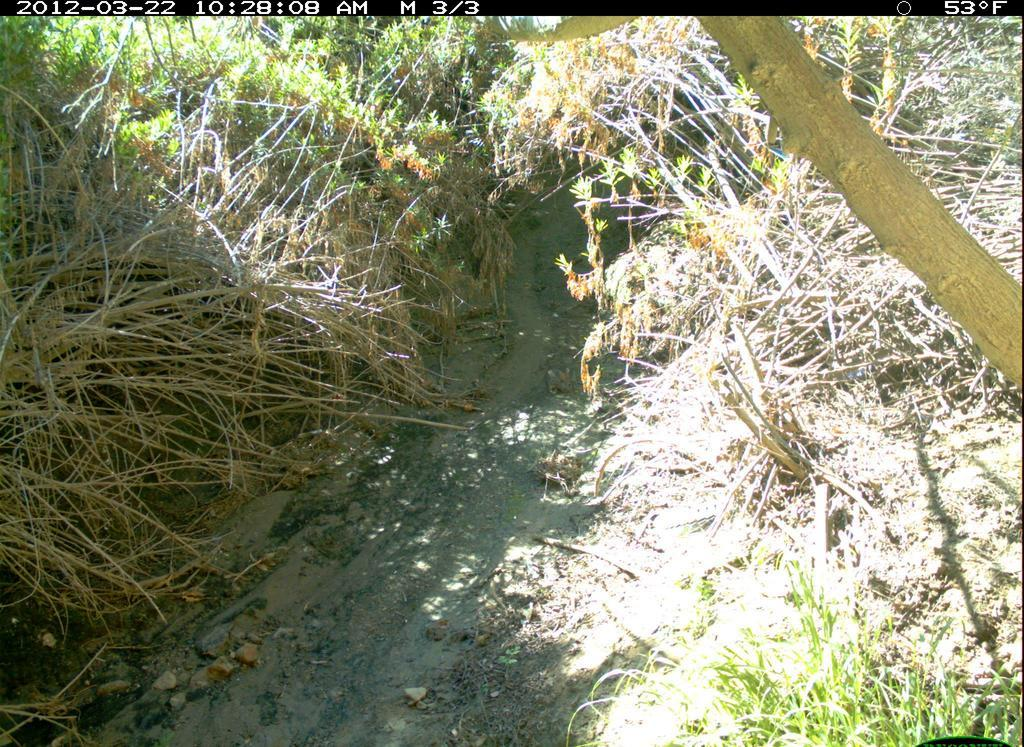rabbit: (539, 361, 582, 402)
